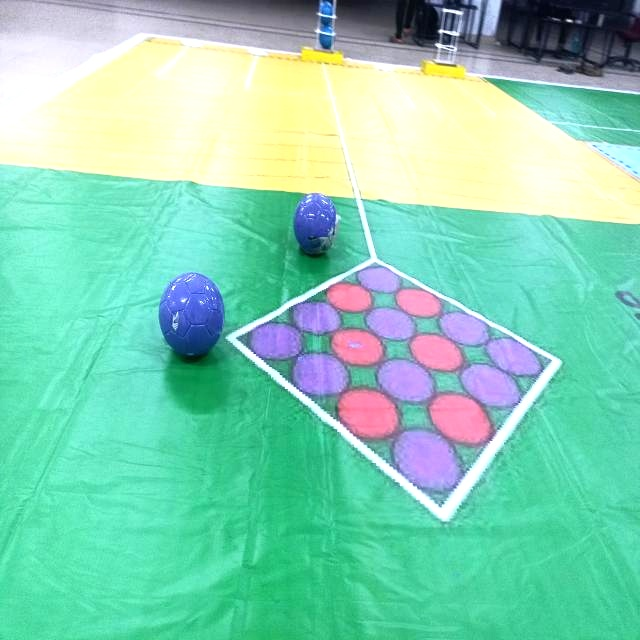purple_ball: (152, 264, 226, 365), (291, 188, 338, 262)
